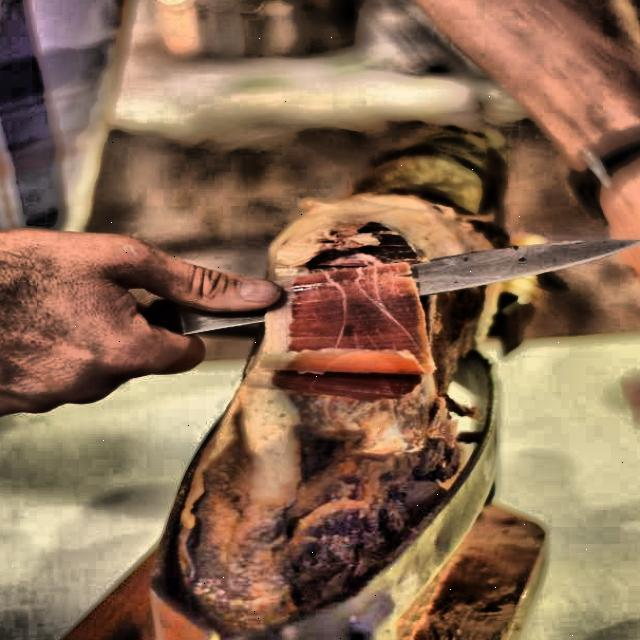knife: (110, 230, 638, 355)
